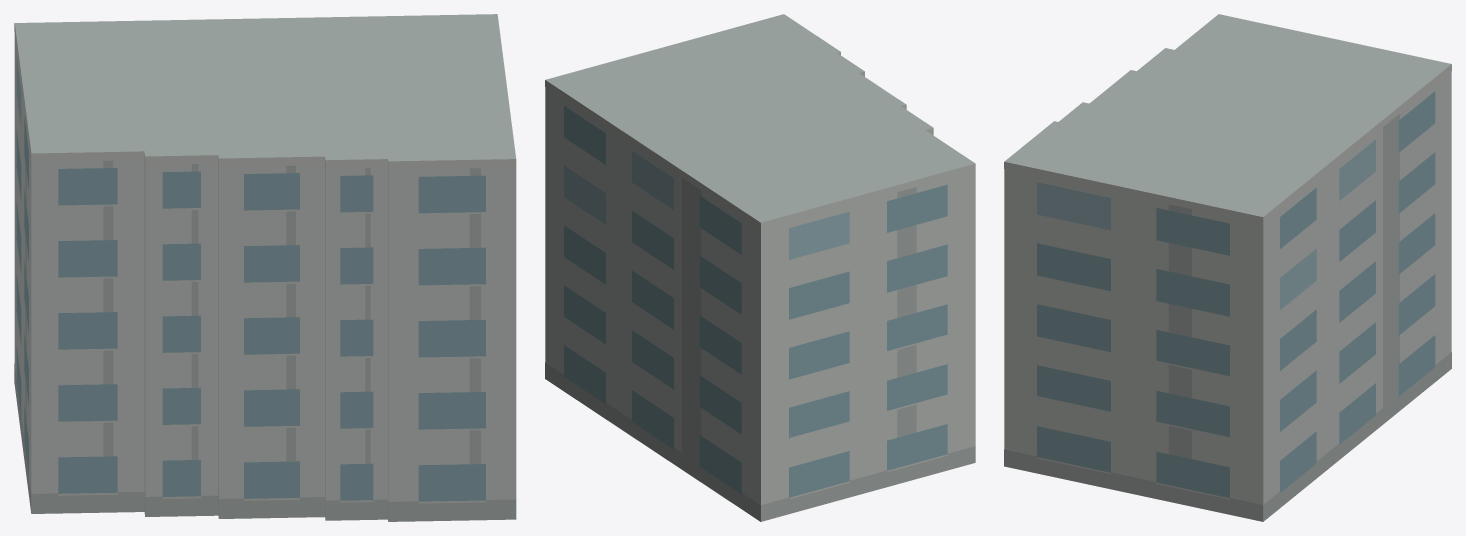
File: survey-upis-32881278.glb
The picture shows the model from 3 angles, left to right: view 1: azimuth 30°, elevation 25°; view 2: azimuth 150°, elevation 25°; view 3: azimuth 270°, elevation 25°; orthographic projection. The views are drawn at different scales.
Visible parts, largest first — view 1: survey-upis-32881278.tmp; view 2: survey-upis-32881278.tmp; view 3: survey-upis-32881278.tmp.
Part boxes in pixels (x1,y1,x2,y2): survey-upis-32881278.tmp: (14, 14, 516, 521); survey-upis-32881278.tmp: (545, 14, 975, 521); survey-upis-32881278.tmp: (1004, 14, 1451, 521).
Bounding box in the file's own units: 14.66 × 10.25 × 13.65.
